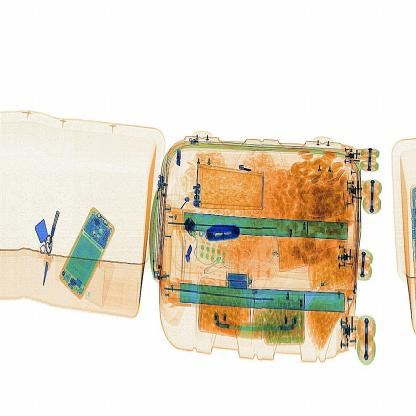scissors: (204, 222, 250, 252)
